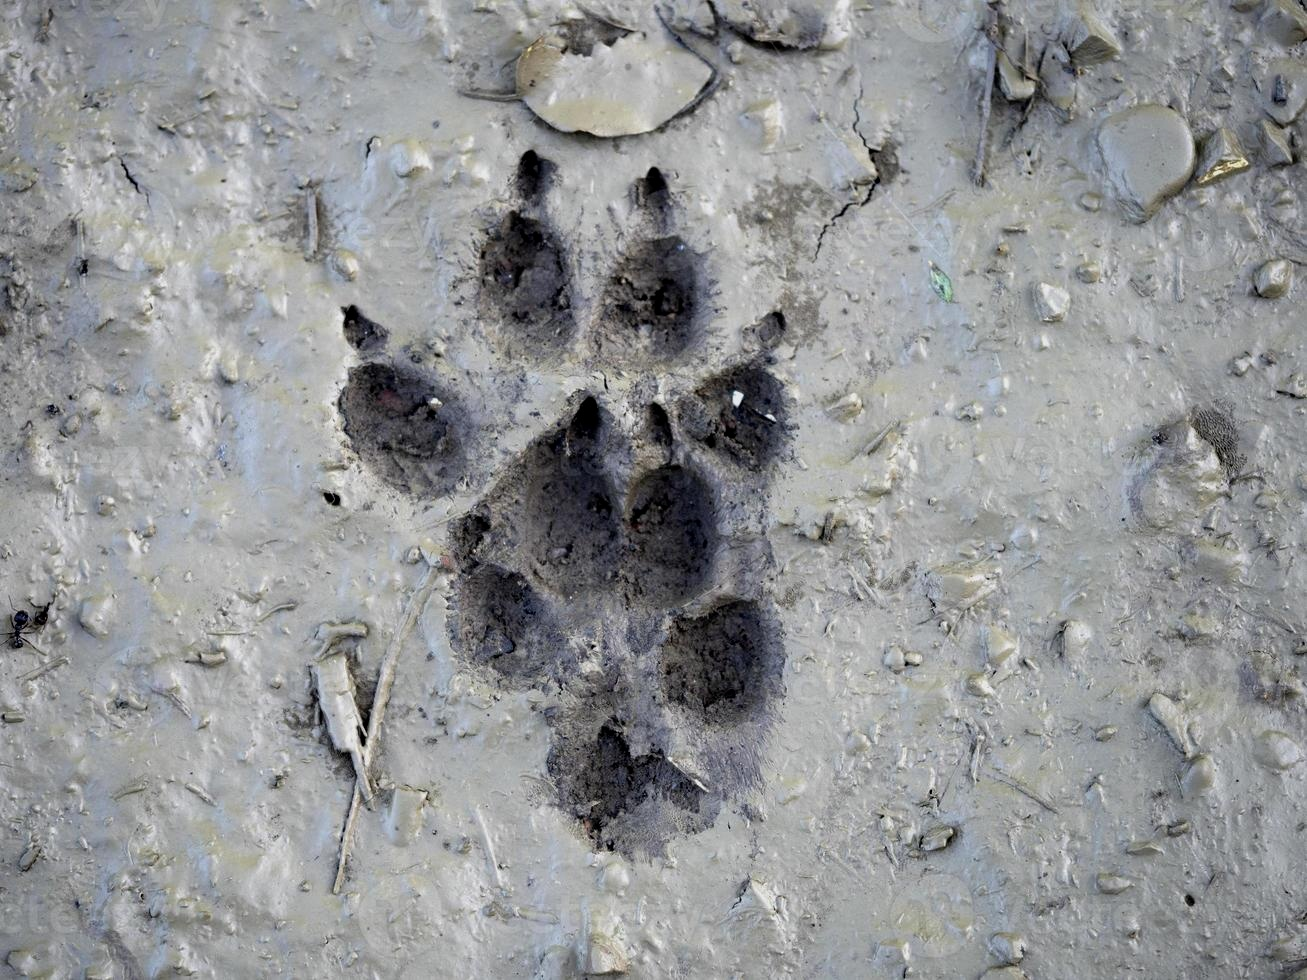coyote: (328, 142, 800, 861)
